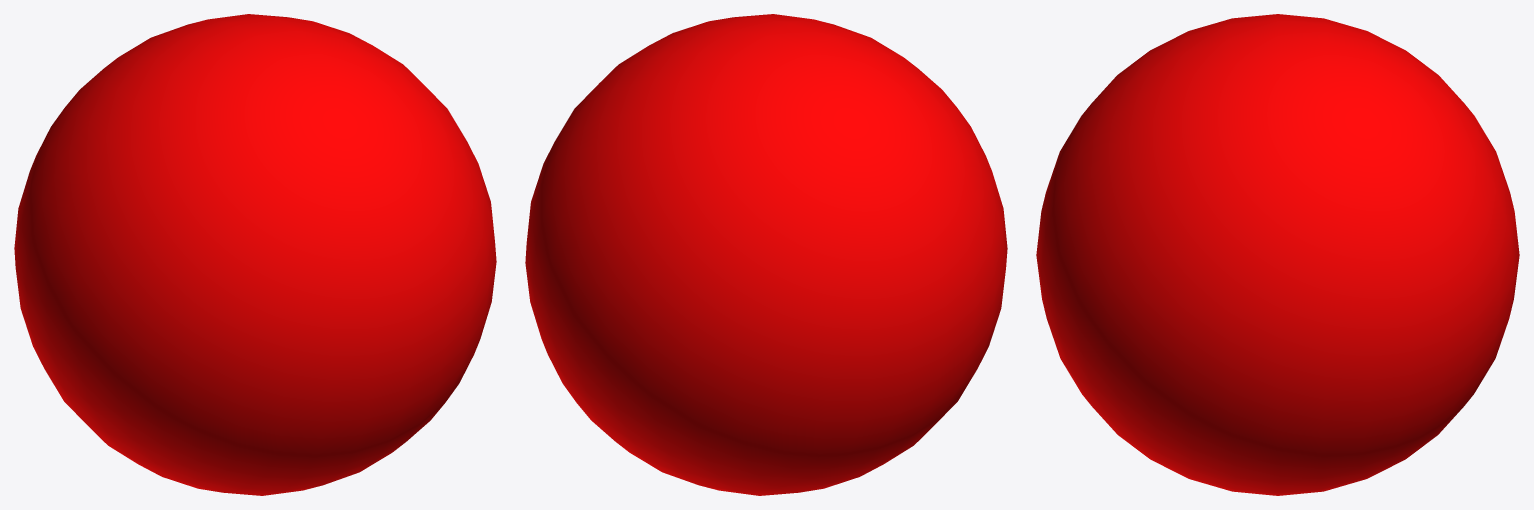
File: ORB.fbx
3 views of the same model, side by side, from view 1: azimuth 30°, elevation 25°; view 2: azimuth 150°, elevation 25°; view 3: azimuth 270°, elevation 25° (orthographic).
Visible parts, largest first — view 1: Sphere; view 2: Sphere; view 3: Sphere.
Boxes of the visible parts, x1,y1,x2,y2 form: Sphere: [14, 14, 496, 495]; Sphere: [525, 14, 1007, 495]; Sphere: [1036, 14, 1519, 495].
Bounding box in the file's own units: 100 × 100 × 100.
